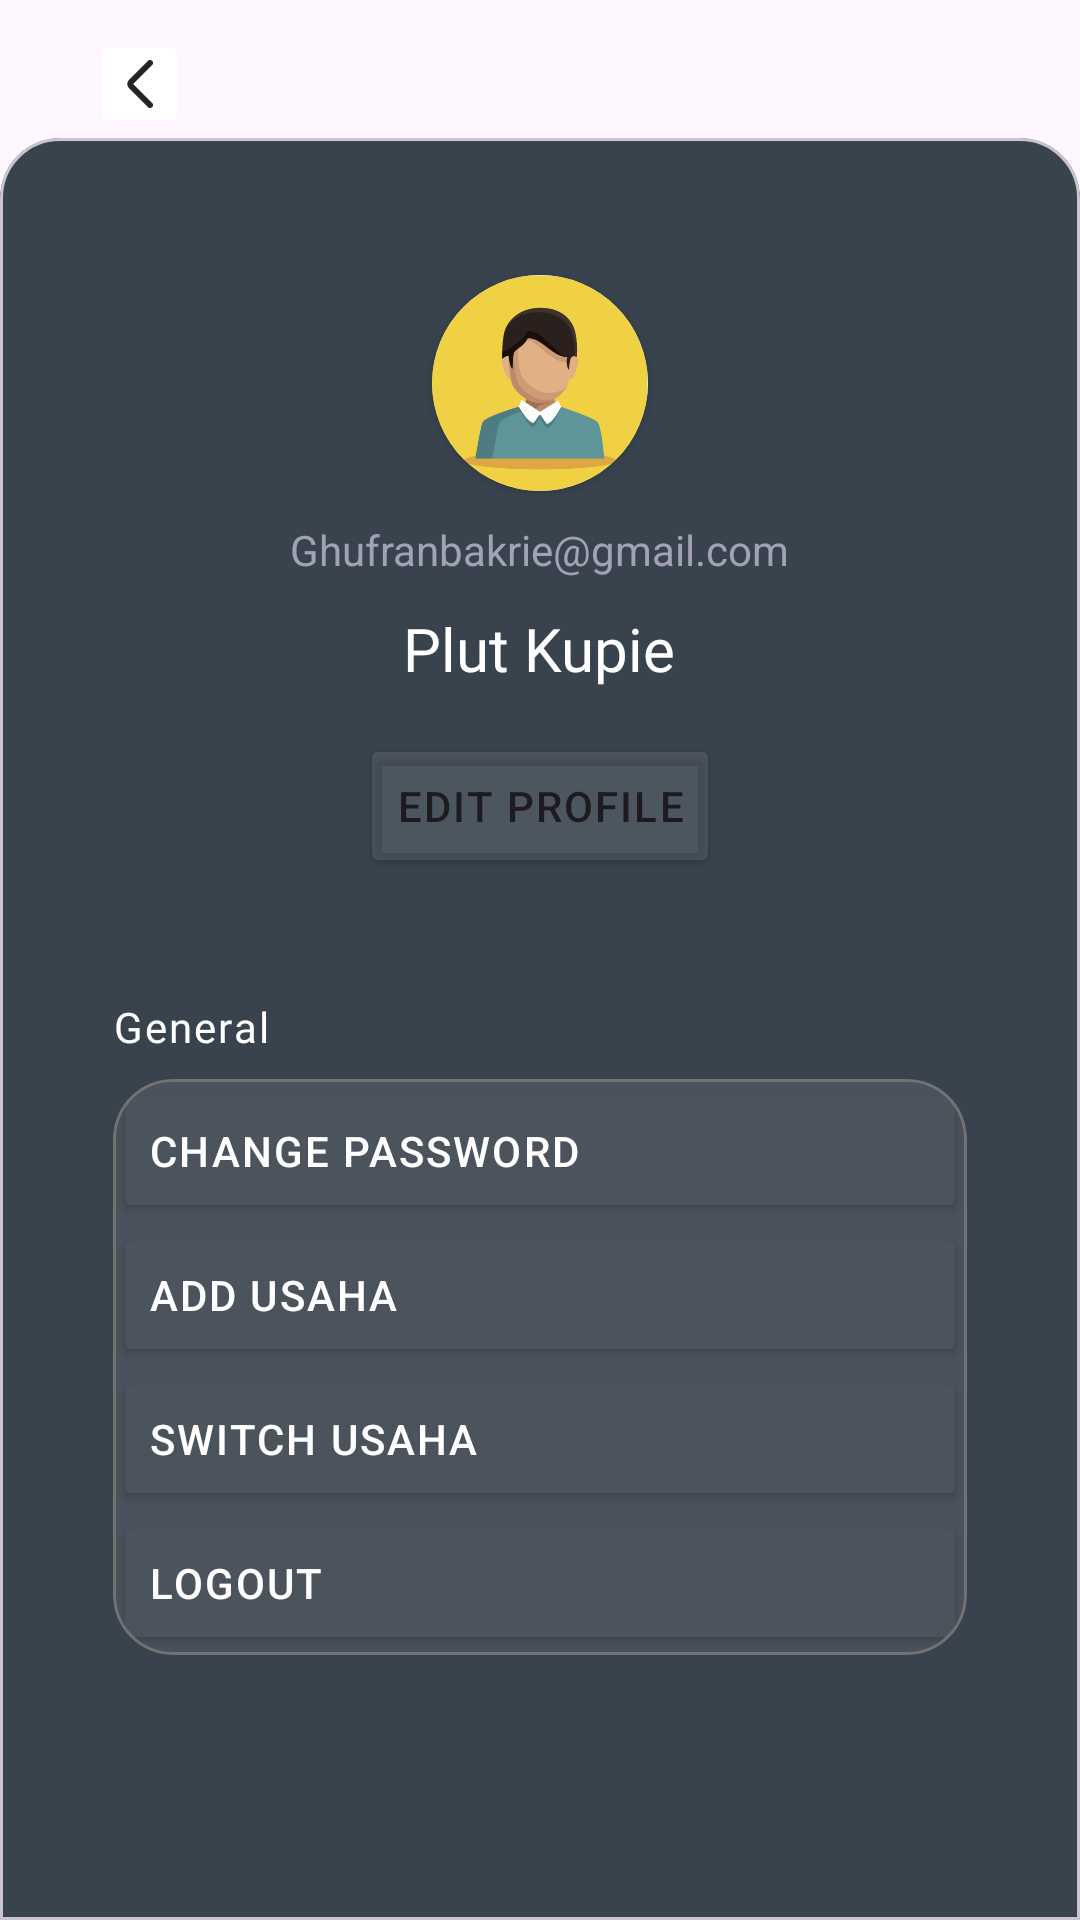

Icon click points for this 1080 × 1920 phone screenshot, format point (x, y):
back: point (140, 84)
profile picture: point (540, 383)
